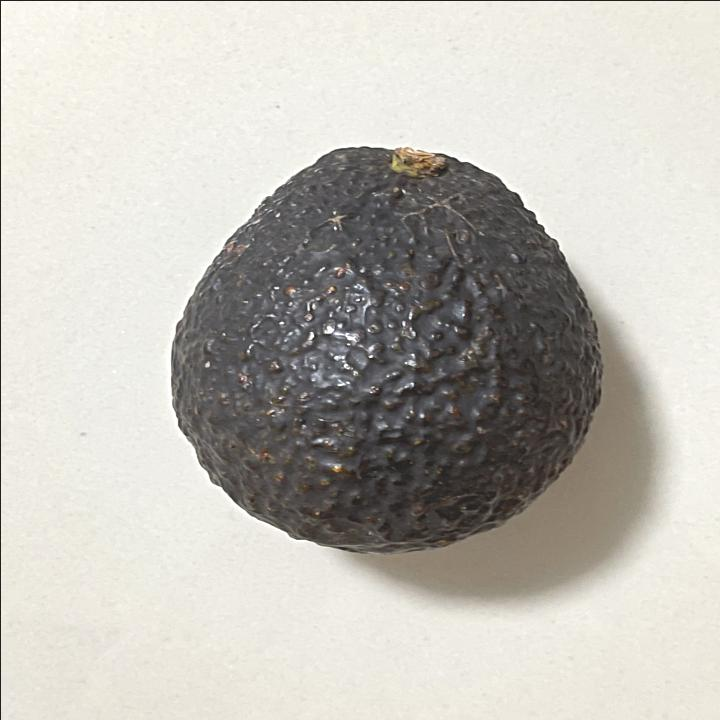Level2: (164, 137, 608, 557)
